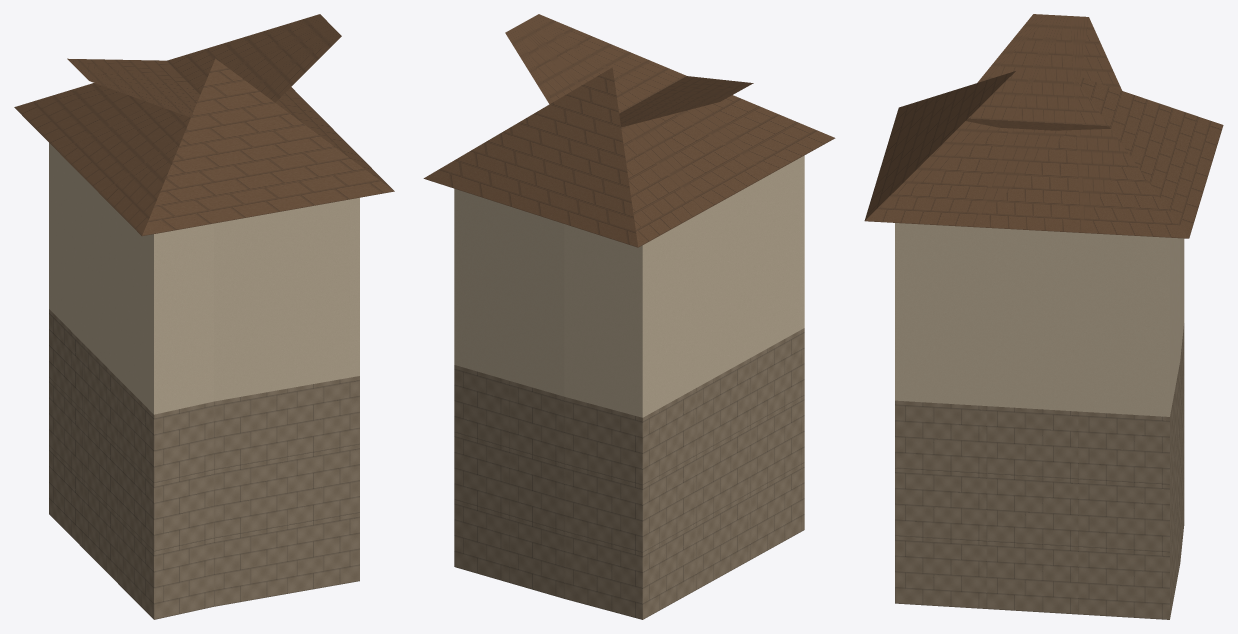
File: bld_c13_27_360.gltf
3 renders of one model, left to right at view 1: azimuth 30°, elevation 25°; view 2: azimuth 150°, elevation 25°; view 3: azimuth 270°, elevation 25°, orthographic.
Visible parts, largest first — view 1: bld_c13_27_360; view 2: bld_c13_27_360; view 3: bld_c13_27_360.
Part boxes in pixels (x1=…): bld_c13_27_360: x1=14, y1=14, x2=394, y2=619; bld_c13_27_360: x1=423, y1=14, x2=835, y2=619; bld_c13_27_360: x1=864, y1=14, x2=1223, y2=619.
Bounding box in the file's own units: 6.97 × 12.2 × 8.06.
3 materials, 3 textured.
